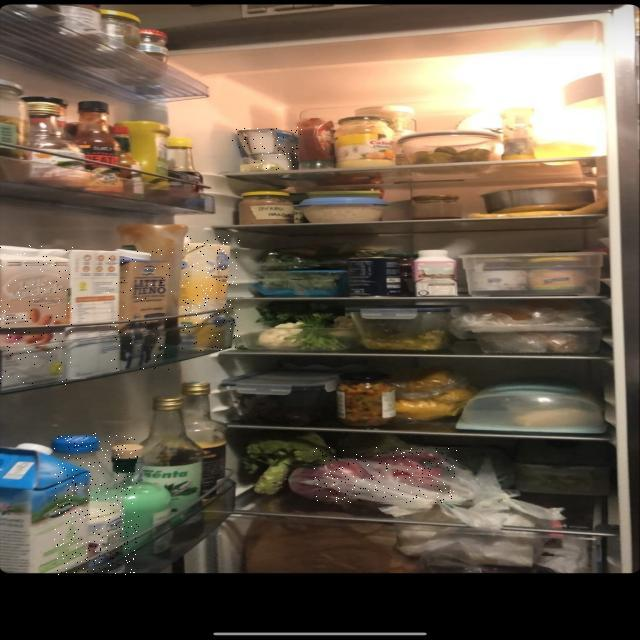milk: (54, 433, 139, 575), (0, 245, 73, 386), (108, 248, 174, 372), (182, 235, 240, 351)
tomatoes: (313, 448, 458, 503)
yoghurt: (232, 127, 302, 154), (251, 154, 298, 170)
